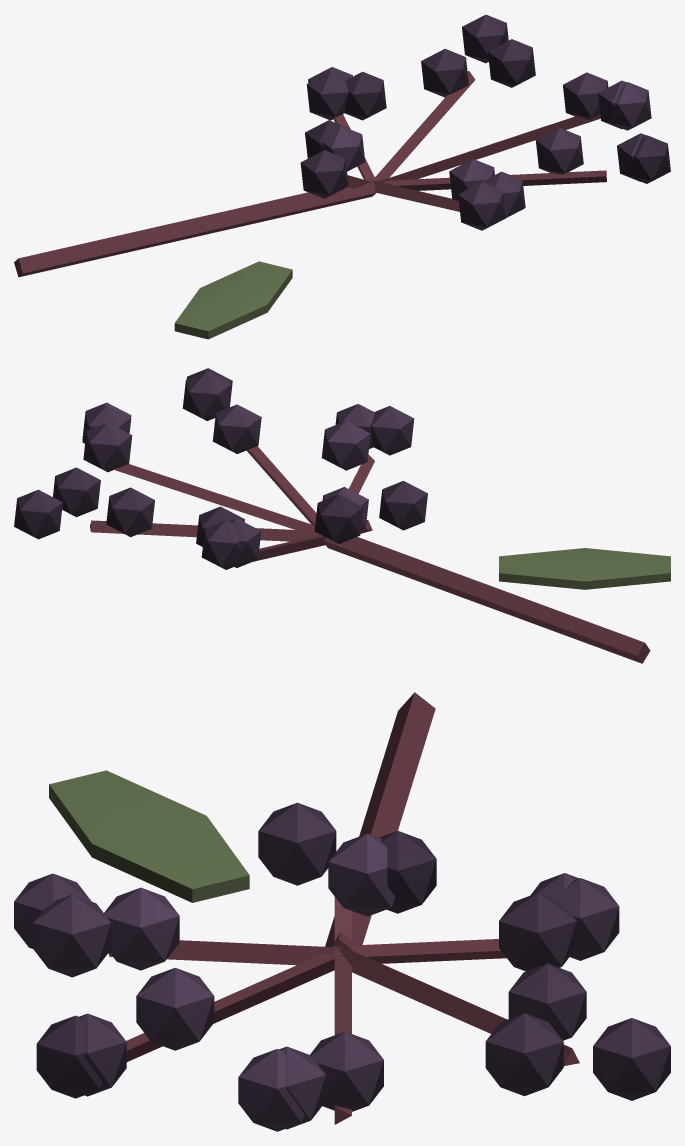
Rendered from ph_item_elderberries.glb.
3 views of the same model, one above another, from view 1: azimuth 30°, elevation 25°; view 2: azimuth 150°, elevation 25°; view 3: azimuth 270°, elevation 25° (orthographic). The views are drawn at different scales.
Visible parts, largest first — view 1: ph_item_elderberries; view 2: ph_item_elderberries; view 3: ph_item_elderberries.
Part boxes in pixels (x1,y1,x2,y2): ph_item_elderberries: [14, 14, 670, 339]; ph_item_elderberries: [14, 368, 670, 663]; ph_item_elderberries: [14, 692, 670, 1131].
Bounding box in the file's own units: 0.3027 × 0.046 × 0.172.
